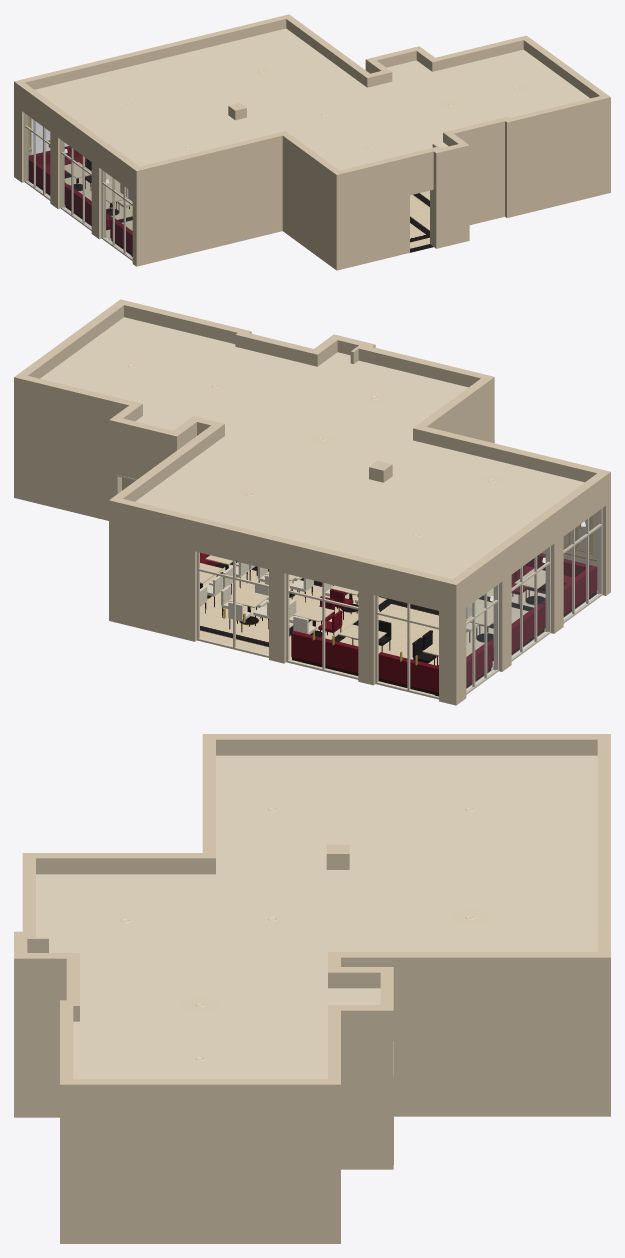
Rendered from restaurant-ibis-oran_amenagement-02_sol-A_abat-jour.glb.
The picture shows the model from 3 angles, top to bottom: view 1: azimuth 30°, elevation 25°; view 2: azimuth 150°, elevation 25°; view 3: azimuth 270°, elevation 25°; orthographic projection. The views are drawn at different scales.
Visible parts, largest first — view 1: Murs_mur, BA13_sous_face_3.60, Sol_sol-A, Vitrage_F3, Vitrage_F2, Vitrage_F1, B01_veloursBordeaux, Menuiserie_F3_menuiserie, Menuiserie_F2_menuiserie, Menuiserie_F1_menuiserie, B02_veloursBordeaux, B04_veloursBordeaux; view 2: Murs_mur, BA13_sous_face_3.60, Sol_sol-A, Vitrage_F2, Vitrage_F3, B01_veloursBordeaux, Vitrage_F1, B03_veloursBordeaux, B04_veloursBordeaux, Menuiserie_F1_menuiserie, Menuiserie_F3_menuiserie, Menuiserie_F2_menuiserie (+4 smaller); view 3: Murs_mur, BA13_sous_face_3.60.
Boxes of the visible parts, left/top/right/bottom form: Murs_mur: left=14, top=14, right=610, bottom=270; BA13_sous_face_3.60: left=35, top=28, right=589, bottom=170; Sol_sol-A: left=33, top=173, right=429, bottom=255; Vitrage_F3: left=103, top=171, right=132, bottom=257; Vitrage_F2: left=62, top=141, right=91, bottom=227; Vitrage_F1: left=26, top=115, right=49, bottom=197; B01_veloursBordeaux: left=28, top=146, right=86, bottom=193; Menuiserie_F3_menuiserie: left=101, top=170, right=132, bottom=260; Menuiserie_F2_menuiserie: left=60, top=140, right=91, bottom=230; Menuiserie_F1_menuiserie: left=24, top=113, right=50, bottom=200; B02_veloursBordeaux: left=64, top=184, right=112, bottom=227; B04_veloursBordeaux: left=110, top=218, right=132, bottom=253; Murs_mur: left=14, top=299, right=610, bottom=705; BA13_sous_face_3.60: left=40, top=317, right=584, bottom=579; Sol_sol-A: left=200, top=561, right=585, bottom=695; Vitrage_F2: left=512, top=548, right=548, bottom=657; Vitrage_F3: left=564, top=510, right=600, bottom=619; B01_veloursBordeaux: left=378, top=642, right=492, bottom=692; Vitrage_F1: left=466, top=586, right=496, bottom=691; B03_veloursBordeaux: left=291, top=631, right=358, bottom=672; B04_veloursBordeaux: left=524, top=553, right=597, bottom=614; Menuiserie_F1_menuiserie: left=466, top=584, right=498, bottom=694; Menuiserie_F3_menuiserie: left=563, top=508, right=602, bottom=623; Menuiserie_F2_menuiserie: left=511, top=546, right=550, bottom=661; Murs_mur: left=14, top=734, right=610, bottom=1243; BA13_sous_face_3.60: left=36, top=755, right=597, bottom=1079.
Size of what is drawn, in the model's own units: 18.9 by 4 by 13.6.
Materials: 38 (1 with a texture image).
